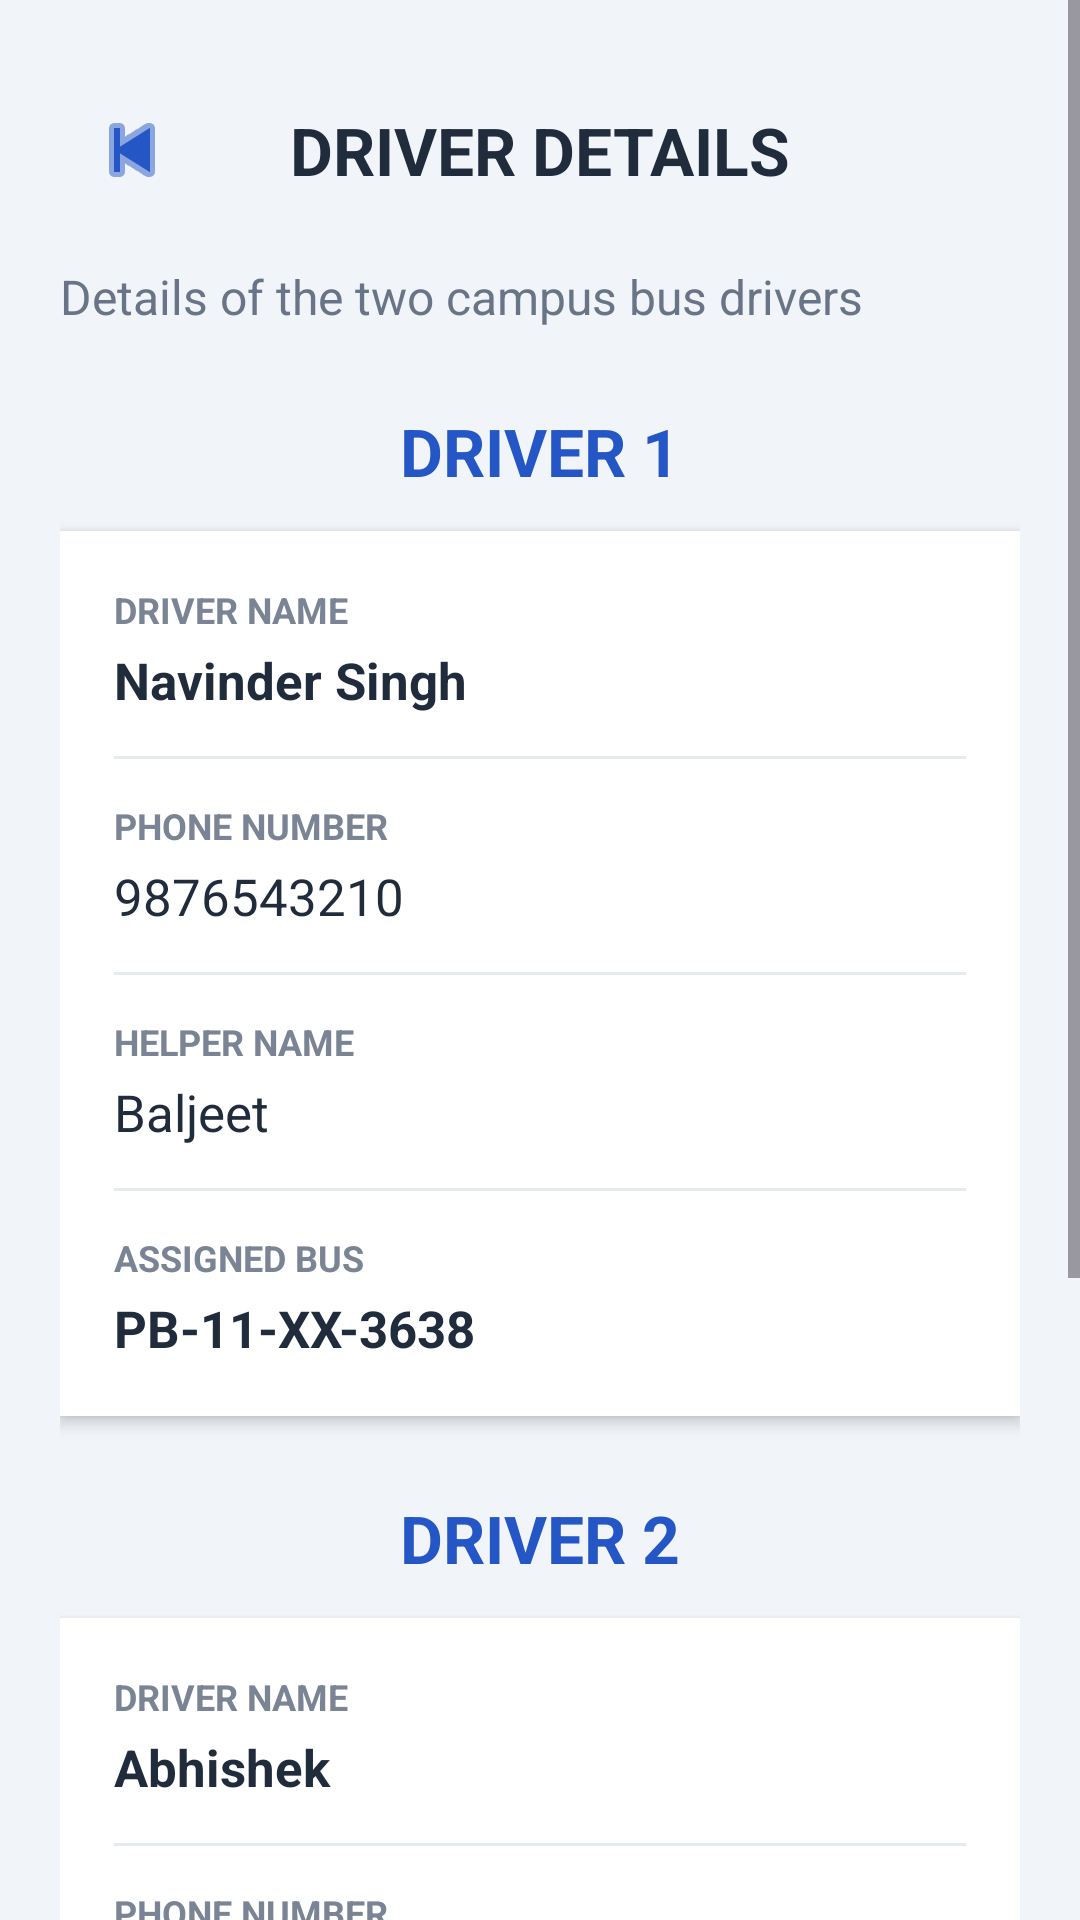

Named icons in this screenshot (1080px×1920px) and their centers, [x,y]:
Back: [132,150]
